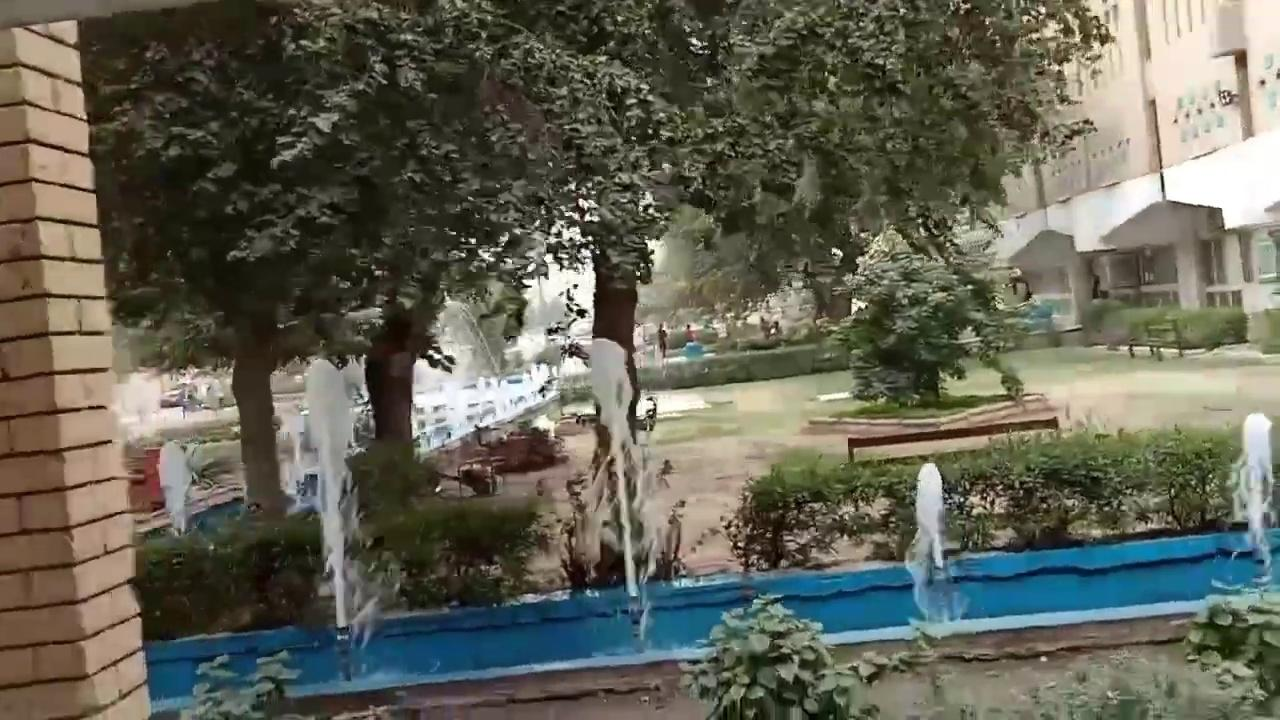fountain: (142, 411, 1276, 716), (900, 412, 1274, 640), (902, 460, 967, 626), (1237, 410, 1275, 584)
person: (644, 396, 657, 431), (657, 321, 669, 358), (684, 323, 695, 344)
tree: (85, 0, 1116, 625), (86, 1, 569, 524), (824, 223, 1032, 408), (675, 591, 914, 718)
